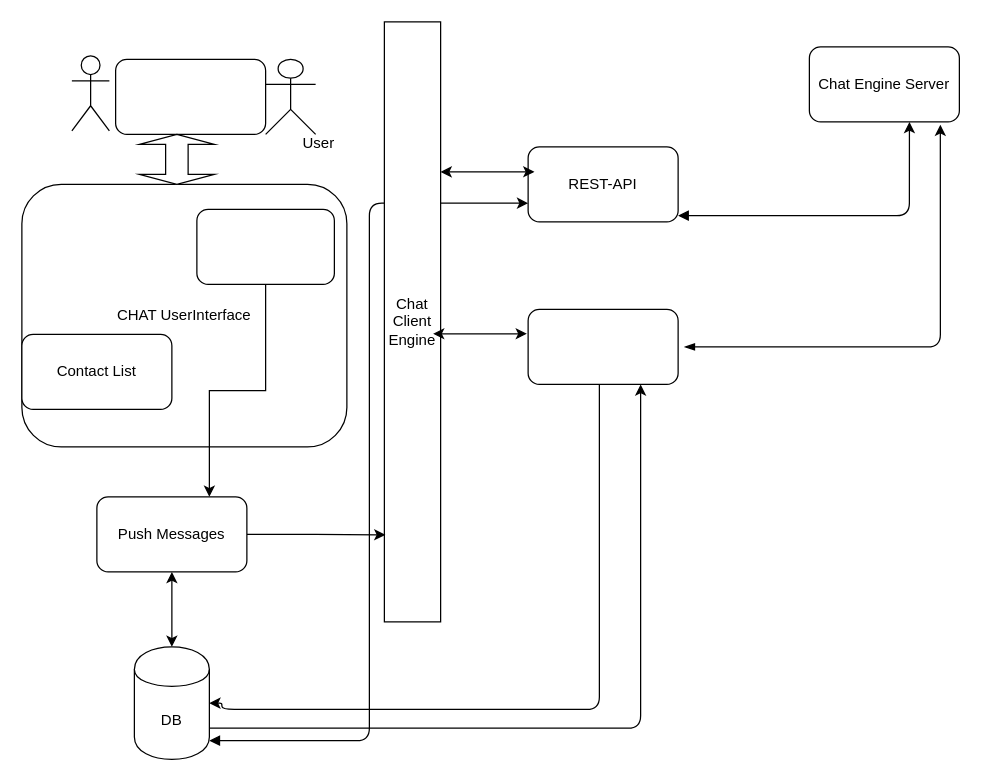
Image size: 981x781. Some labels were removed from this diagram. Each missing label, with the box of its shape:
Chat Application: (114, 58, 266, 134)
Dialogue UI: (196, 208, 334, 284)
Supervisor: (71, 54, 109, 131)
WebSocket: (527, 308, 678, 384)
